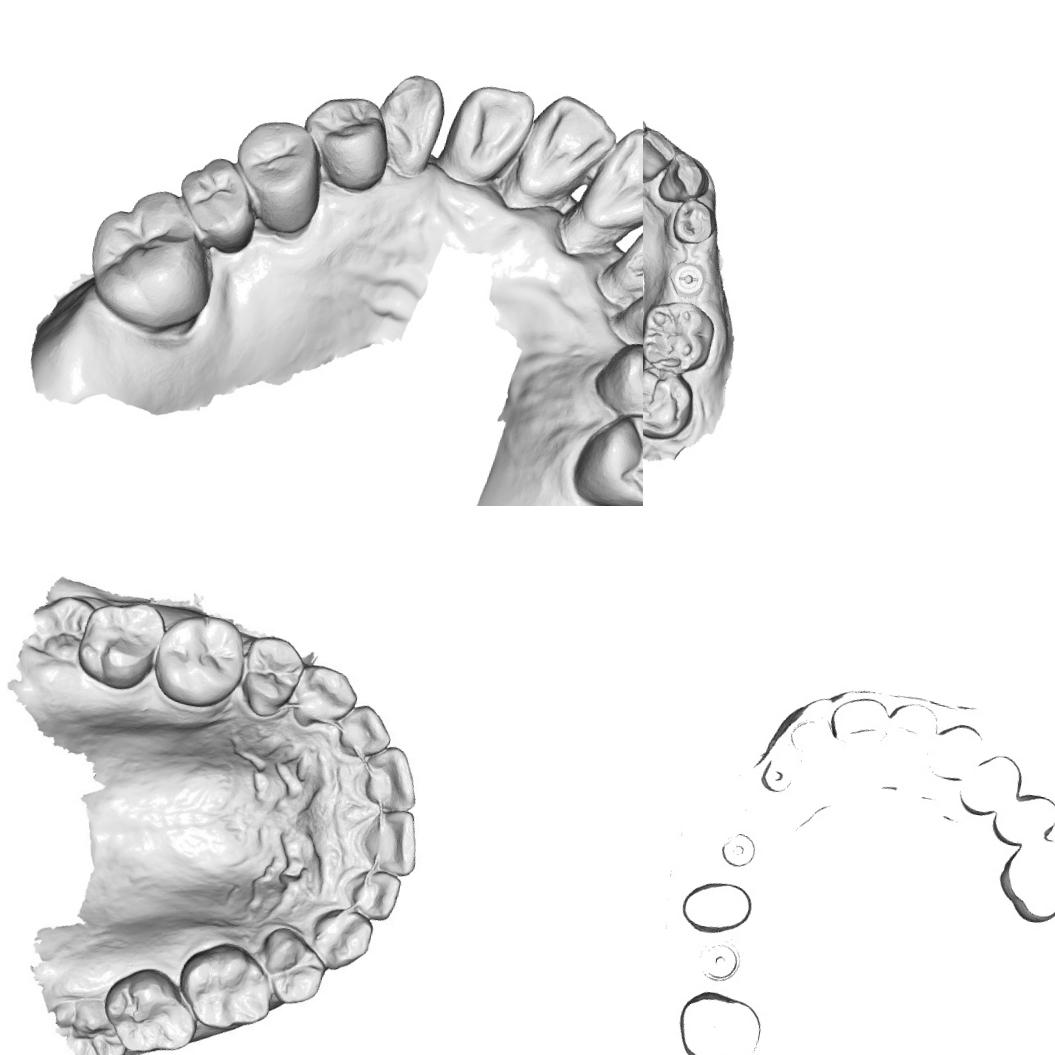canine: (368, 66, 453, 184), (286, 659, 363, 735), (305, 902, 378, 976), (654, 147, 714, 208), (619, 257, 643, 357)
implant: (664, 256, 709, 301)
incisor: (510, 87, 622, 212), (438, 76, 540, 190), (578, 118, 643, 240), (360, 742, 422, 821), (363, 801, 426, 876), (334, 698, 398, 764), (343, 866, 403, 920), (613, 202, 643, 300), (643, 125, 679, 185)
molar: (76, 176, 225, 341), (147, 604, 253, 716), (173, 935, 279, 1038), (68, 591, 168, 696), (167, 145, 263, 253), (98, 964, 202, 1055), (643, 293, 718, 379), (643, 362, 700, 445)
premolar: (224, 107, 332, 238), (292, 85, 402, 198), (565, 401, 643, 506), (233, 629, 306, 720), (588, 335, 643, 429), (260, 926, 325, 1004), (666, 194, 720, 249)
